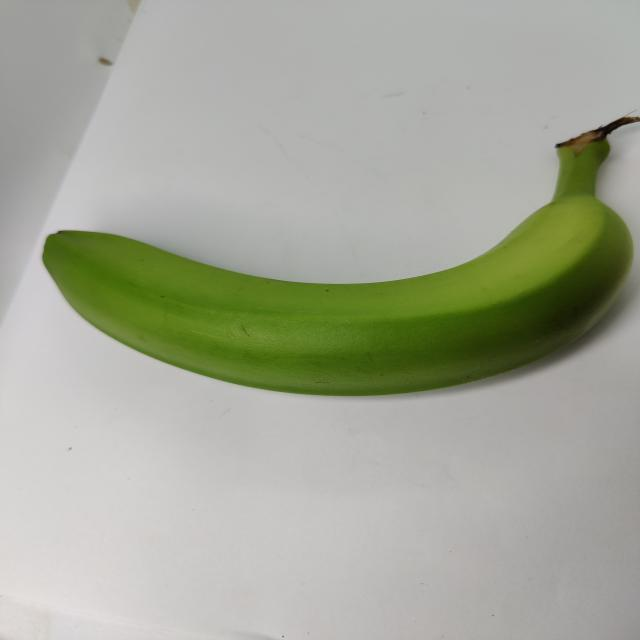raw: (21, 106, 640, 431)
